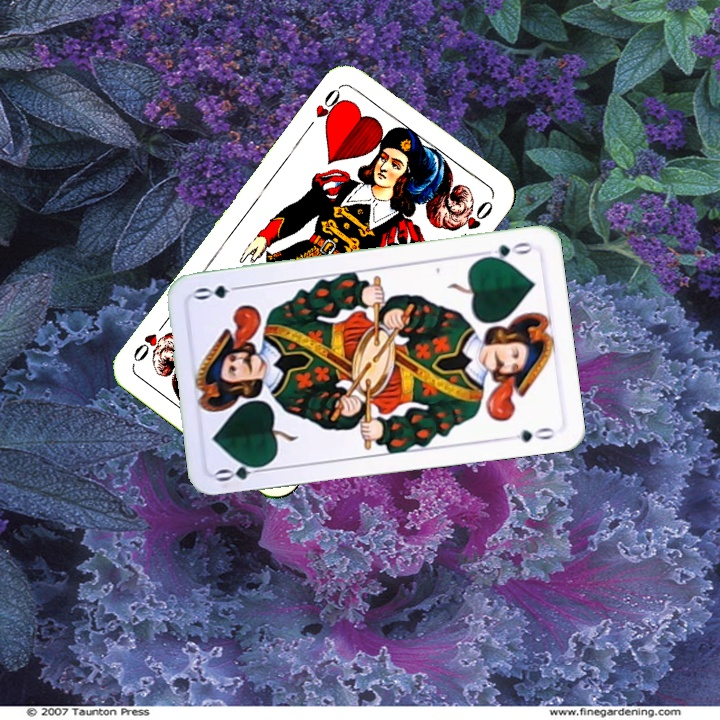GO: (212, 457, 272, 484), (476, 238, 536, 264)
HO: (311, 81, 349, 130)
